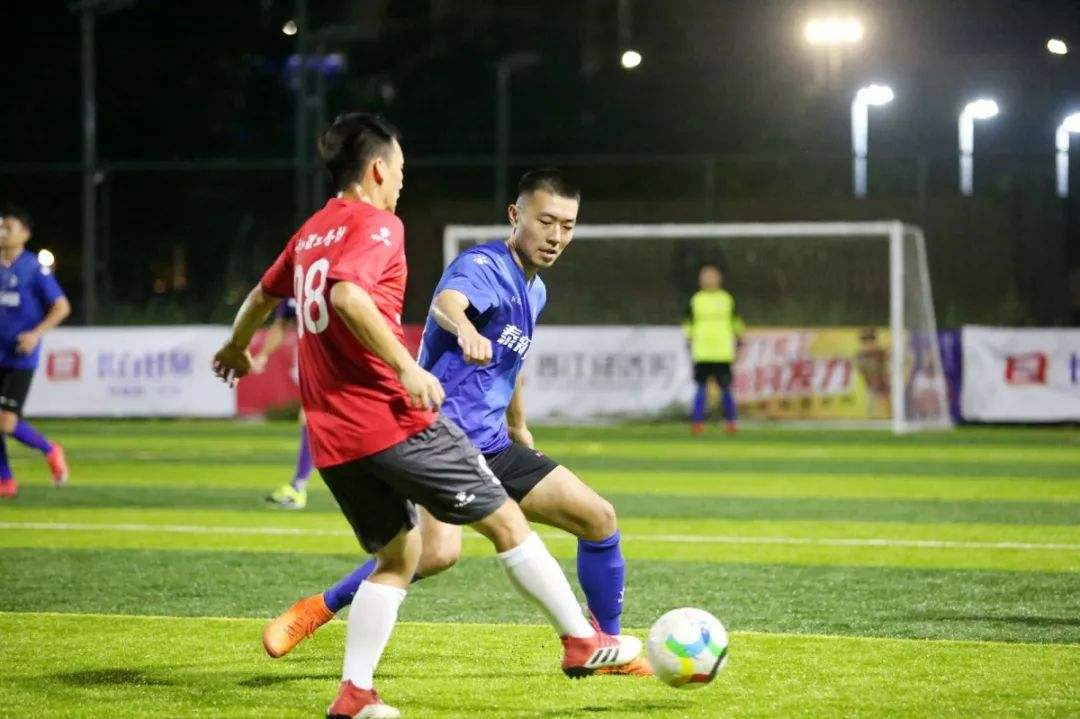football: (647, 604, 730, 690)
